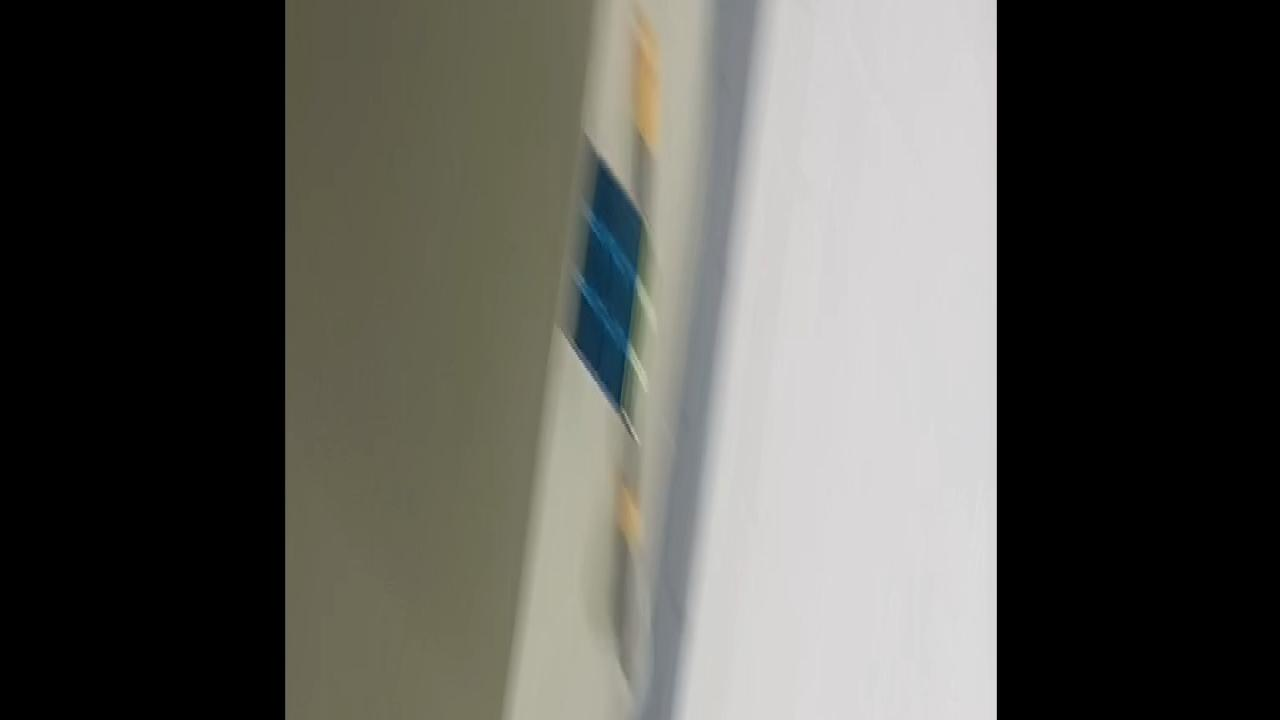Cube: (552, 123, 660, 445)
